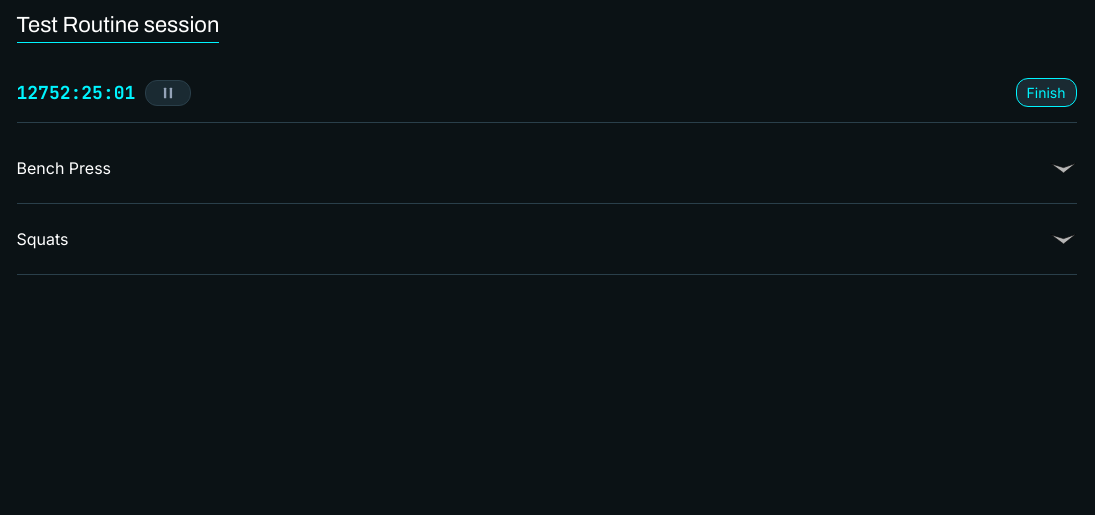
Test case: should open panel and show sets when exercise row is clicked
This screenshot has width=1095, height=515.
Check: the text "Bench Press" is shown, box [16,158,111,178]
Click the button "Bench Press". click: click(64, 168)
box: [16,133,1076,203]
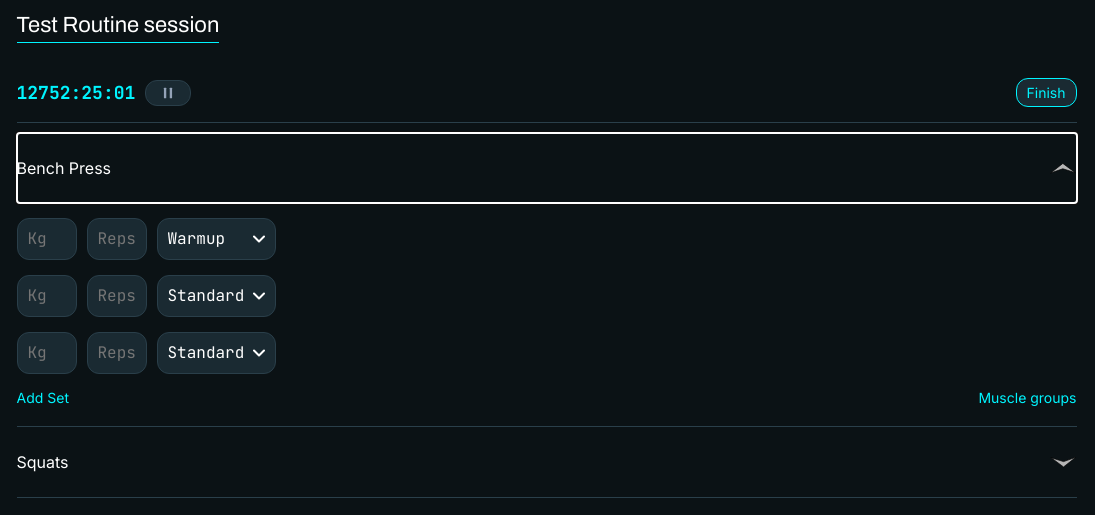
Check: the button "Add Set" is shown, box [16,389,69,406]
